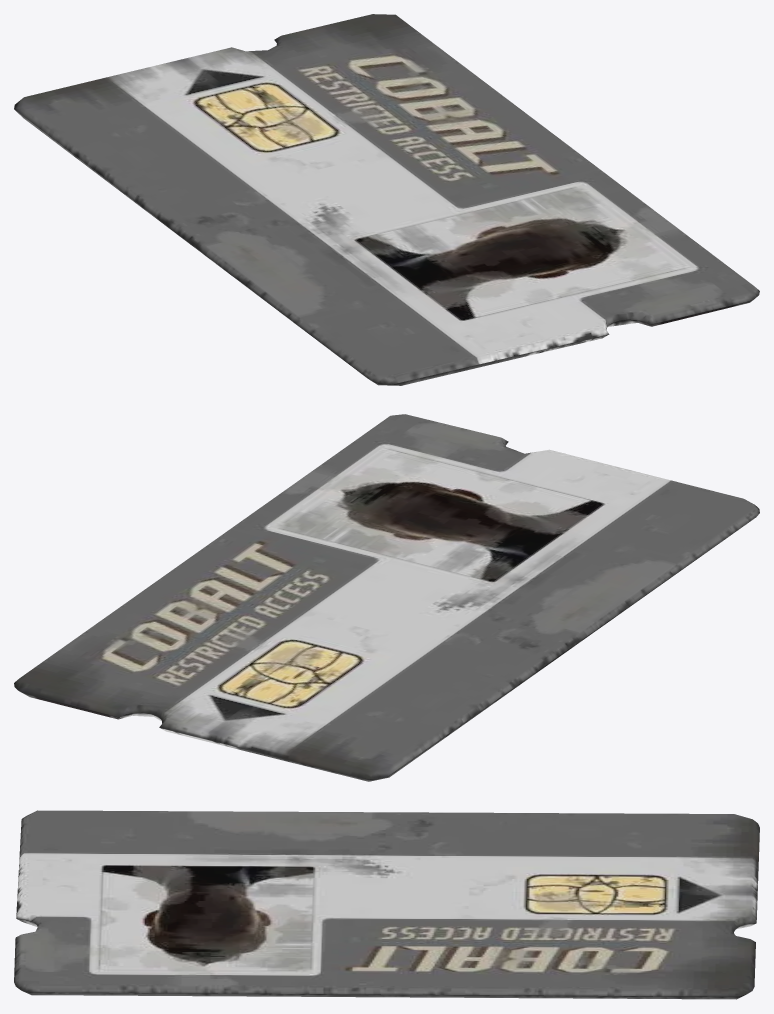
Rendered from blue-keycard.glb.
3 renders of one model, top to bottom at view 1: azimuth 30°, elevation 25°; view 2: azimuth 150°, elevation 25°; view 3: azimuth 270°, elevation 25°, orthographic. The views are drawn at different scales.
Parts seen in each view (by area): view 1: access_card_LOD0; view 2: access_card_LOD0; view 3: access_card_LOD0.
Part boxes in pixels (x1,y1,x2,y2): access_card_LOD0: (14, 14, 759, 385); access_card_LOD0: (14, 414, 759, 781); access_card_LOD0: (14, 810, 759, 999).
Bounding box in the file's own units: 0.131 × 0.00336 × 0.2243.
1 material, 1 textured.
